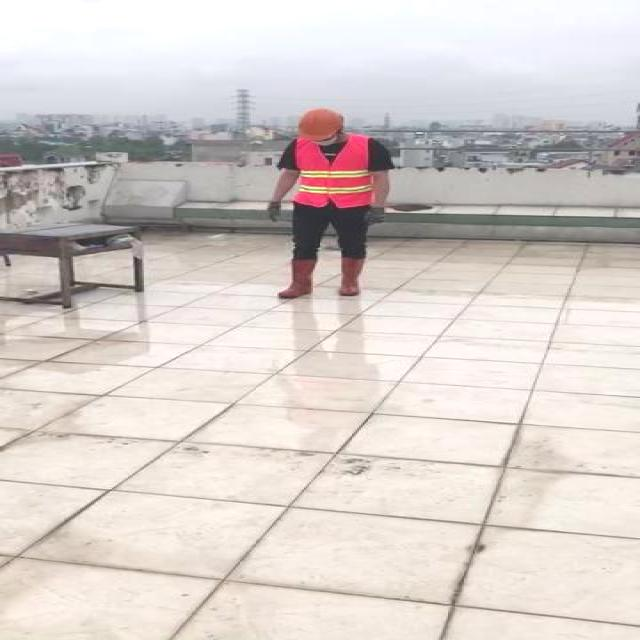boots: (278, 258, 318, 301), (340, 257, 368, 299)
hand_glove: (361, 200, 395, 226), (263, 201, 283, 224)
head_helmet: (292, 106, 348, 143)
person: (258, 105, 400, 304)
vest: (293, 134, 379, 205)
